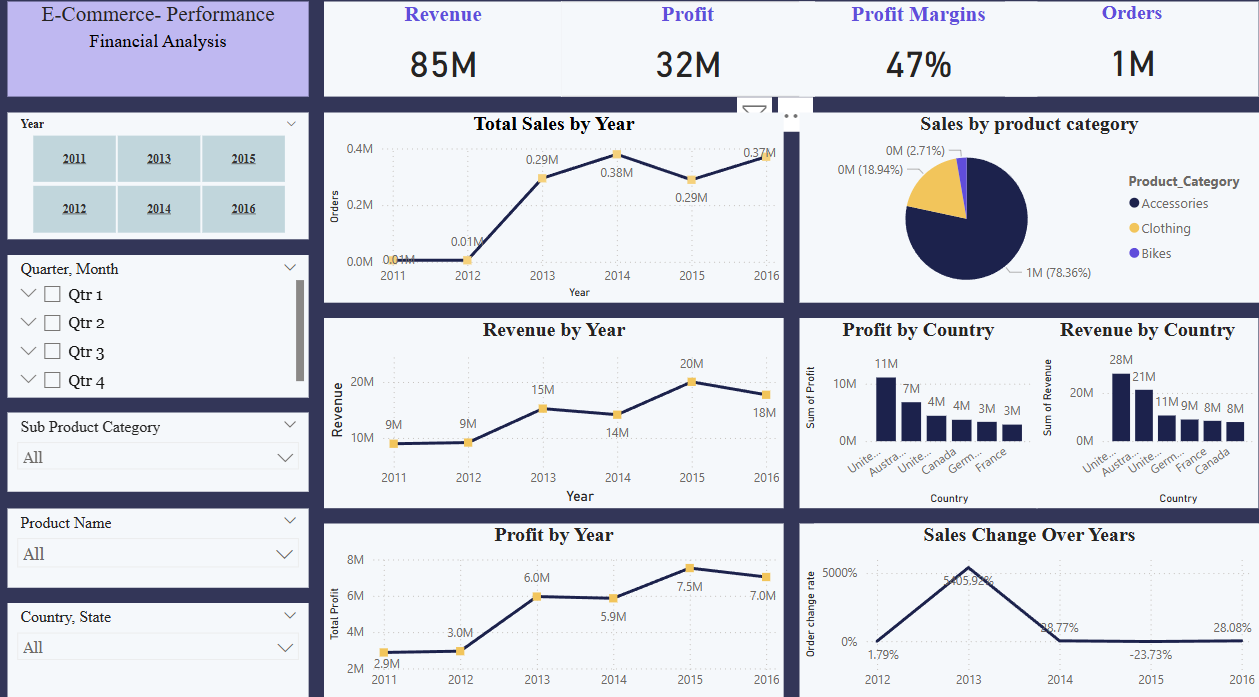

This screenshot's page, from the dashboard's own definition file:
{"tool":"powerbi","page":{"name":"Page 1","canvas":[1280,720],"ordinal":0},"visuals":[{"type":"card","title":"Profit","fields":{"Values":["Sum(sales_data.Profit)"]},"box":[576,16,256,96],"z":0},{"type":"card","title":"Revenue","fields":{"Values":["Sum(sales_data.Revenue)"]},"box":[336,16,240,96],"z":1000},{"type":"clusteredColumnChart","title":"Revenue by Country","fields":{"Category":["sales_data.Country"],"Y":["Sum(sales_data.Revenue)"]},"box":[1056,336,224,192],"z":2000},{"type":"card","title":"Orders","fields":{"Values":["Sum(sales_data.Order_Quantity)"]},"box":[1024,16,256,96],"z":3000},{"type":"clusteredColumnChart","title":"Orders by Age Group and Gender","fields":{"Y":["Sum(sales_data.Order_Quantity)"],"Category":["sales_data.Age_Group"],"Series":["sales_data.Customer_Gender"]},"box":[832,544,448,176],"z":4000},{"type":"card","title":"Profit Margins","fields":{"Values":["Avg(sales_data.Profit Margins)"]},"box":[816,16,240,96],"z":5000},{"type":"lineChart","fields":{"Category":["sales_data.Date.Variation.Date Hierarchy.Year"],"Y":["Sum(sales_data.Revenue)"]},"box":[336,336,464,192],"z":6000},{"type":"slicer","fields":{"Values":["sales_data.Year"]},"box":[16,128,304,128],"z":7000},{"type":"lineChart","title":"Profit by Year","fields":{"Y":["Sum(sales_data.Profit)"],"Category":["sales_data.Date.Variation.Date Hierarchy.Year"]},"box":[336,544,464,176],"z":8000},{"type":"slicer","fields":{"Values":["sales_data.Date.Variation.Date Hierarchy.Quarter","sales_data.Date.Variation.Date Hierarchy.Month"]},"box":[16,272,304,144],"z":9000},{"type":"slicer","fields":{"Values":["sales_data.Product"]},"box":[16,528,304,80],"z":10000},{"type":"slicer","fields":{"Values":["sales_data.Sub_Category"]},"box":[16,432,304,80],"z":11000},{"type":"slicer","fields":{"Values":["sales_data.Country","sales_data.State"]},"box":[16,624,304,96],"z":12000},{"type":"pieChart","title":"Sales by product category","fields":{"Category":["sales_data.Product_Category"],"Y":["Sum(sales_data.Order_Quantity)"]},"box":[816,128,464,192],"z":13000},{"type":"clusteredColumnChart","title":"Profit by Country","fields":{"Category":["sales_data.Country"],"Y":["Sum(sales_data.Profit)"]},"box":[816,336,240,192],"z":14000},{"type":"lineChart","title":"Sales Change Over Years","fields":{"Category":["sales_data.Date.Variation.Date Hierarchy.Year"],"Y":["sales_data.Order_Quantity YoY%"]},"box":[816,544,464,176],"z":15000},{"type":"textbox","title":"E-Commerce- Performance","box":[16,16,304,96],"z":16000},{"type":"lineChart","title":"Total Sales by Year","fields":{"Category":["sales_data.Date.Variation.Date Hierarchy.Year"],"Y":["Sum(sales_data.Order_Quantity)"]},"box":[336,128,464,192],"z":17000}]}

Visuals, with their boxes in screenshot pixels (x1, y1, x2, y2), scaled from the page's 1280x720 canvas onto the 1259x697 screenshot:
"Profit" card: [x1=567, y1=15, x2=818, y2=108]
"Revenue" card: [x1=330, y1=15, x2=567, y2=108]
"Revenue by Country" clusteredColumnChart: [x1=1039, y1=325, x2=1258, y2=511]
"Orders" card: [x1=1007, y1=15, x2=1258, y2=108]
"Orders by Age Group and Gender" clusteredColumnChart: [x1=818, y1=527, x2=1258, y2=696]
"Profit Margins" card: [x1=803, y1=15, x2=1039, y2=108]
lineChart - sales_data.Date.Variation.Date Hierarchy.Year x Sum(sales_data.Revenue): [x1=330, y1=325, x2=787, y2=511]
slicer - sales_data.Year: [x1=16, y1=124, x2=315, y2=248]
"Profit by Year" lineChart: [x1=330, y1=527, x2=787, y2=696]
slicer - sales_data.Date.Variation.Date Hierarchy.Quarter x sales_data.Date.Variation.Date Hierarchy.Month: [x1=16, y1=263, x2=315, y2=403]
slicer - sales_data.Product: [x1=16, y1=511, x2=315, y2=589]
slicer - sales_data.Sub_Category: [x1=16, y1=418, x2=315, y2=496]
slicer - sales_data.Country x sales_data.State: [x1=16, y1=604, x2=315, y2=696]
"Sales by product category" pieChart: [x1=803, y1=124, x2=1258, y2=310]
"Profit by Country" clusteredColumnChart: [x1=803, y1=325, x2=1039, y2=511]
"Sales Change Over Years" lineChart: [x1=803, y1=527, x2=1258, y2=696]
"E-Commerce- Performance" textbox: [x1=16, y1=15, x2=315, y2=108]
"Total Sales by Year" lineChart: [x1=330, y1=124, x2=787, y2=310]
